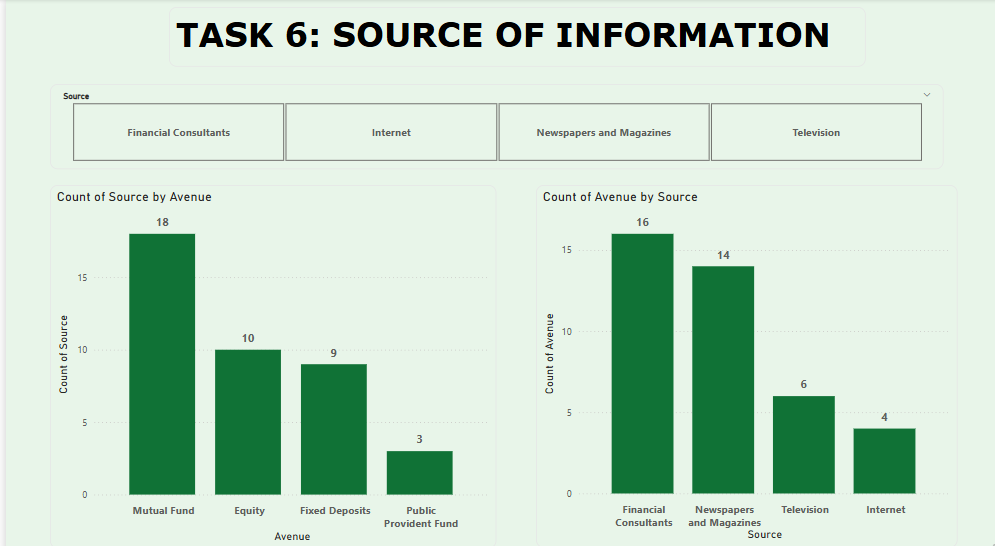

This screenshot's page, from the dashboard's own definition file:
{"tool":"powerbi","page":{"name":"Task6","canvas":[1280,720],"ordinal":5},"visuals":[{"type":"textbox","box":[209.8,10,899,77.1],"z":0},{"type":"slicer","fields":{"Values":["Data_set 2.Source"]},"box":[57.1,109.9,1153,109.9],"z":1000},{"type":"clusteredColumnChart","fields":{"Category":["Data_set 2.Avenue"],"Y":["CountNonNull(Data_set 2.Source)"]},"box":[57.1,239.7,576.5,469.5],"z":2000},{"type":"clusteredColumnChart","fields":{"Y":["CountNonNull(Data_set 2.Avenue)"],"Category":["Data_set 2.Source"]},"box":[683.5,239.7,543.7,468],"z":3000}]}

Visuals, with their boxes in screenshot pixels (x1, y1, x2, y2), scaled from the page's 1280x720 canvas onto the 995x546 screenshot:
textbox: (163, 8, 862, 66)
slicer - Data_set 2.Source: (44, 83, 941, 167)
clusteredColumnChart - Data_set 2.Avenue x CountNonNull(Data_set 2.Source): (44, 182, 493, 538)
clusteredColumnChart - CountNonNull(Data_set 2.Avenue) x Data_set 2.Source: (531, 182, 954, 537)
